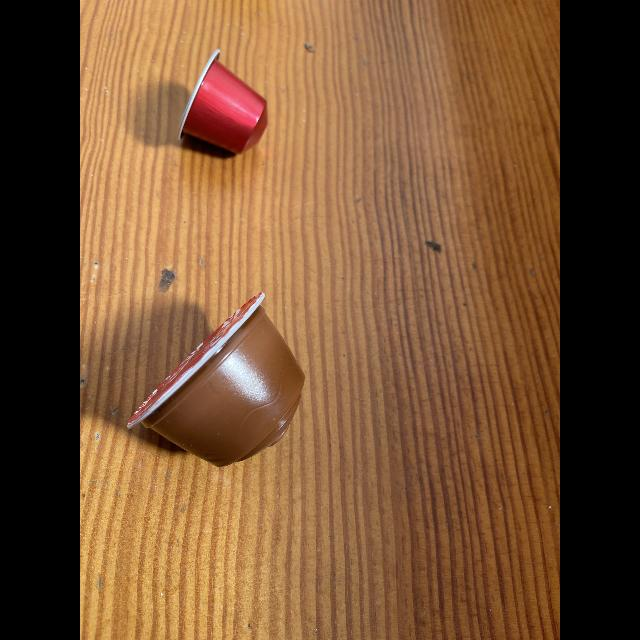intact_capsule: (118, 290, 316, 482), (164, 50, 284, 160)
